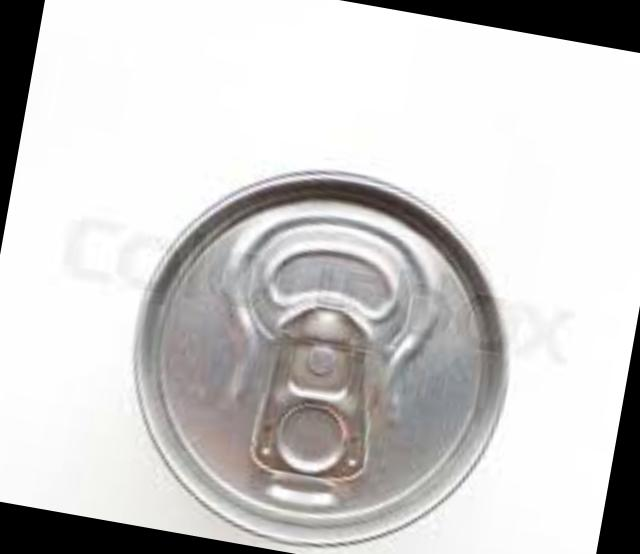metal: (131, 167, 501, 539)
